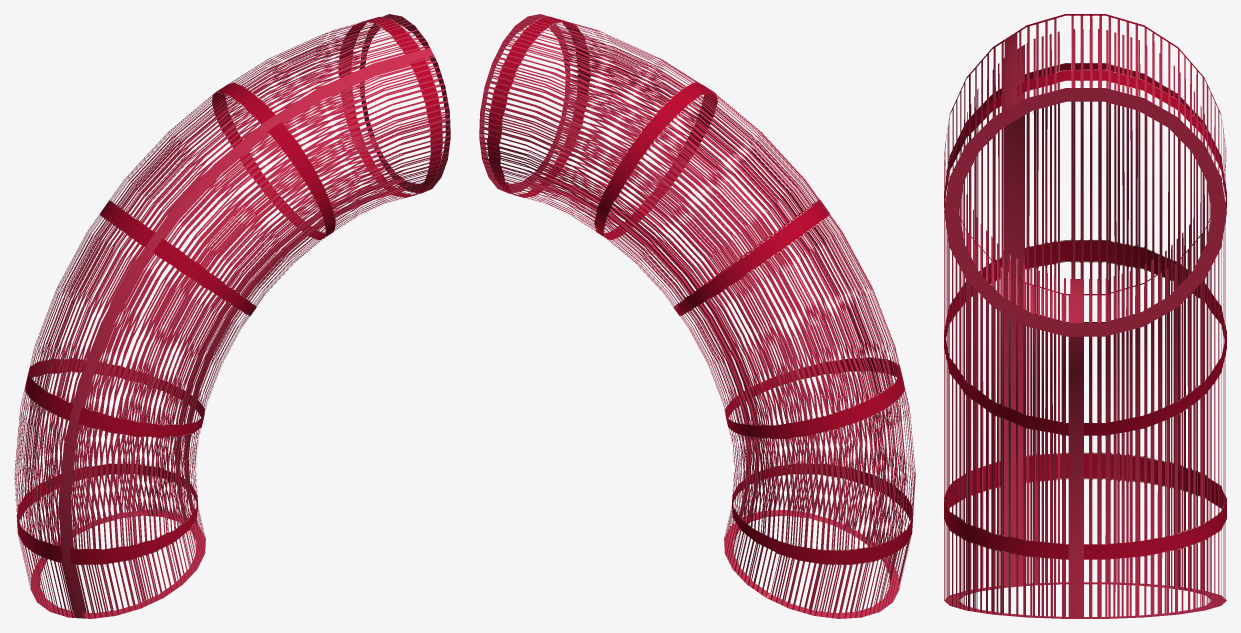
File: curve ramp.FBX
The picture shows the model from 3 angles, left to right: view 1: azimuth 30°, elevation 25°; view 2: azimuth 150°, elevation 25°; view 3: azimuth 270°, elevation 25°; orthographic projection. The views are drawn at different scales.
Visible parts, largest first — view 1: Tube002; view 2: Tube002; view 3: Tube002.
Boxes of the visible parts, x1,y1,x2,y2 form: Tube002: (14,14,450,618); Tube002: (479,14,915,618); Tube002: (944,14,1226,618).
Size of the model in its own units: 492 by 612 by 204.
1 material, 1 textured.
